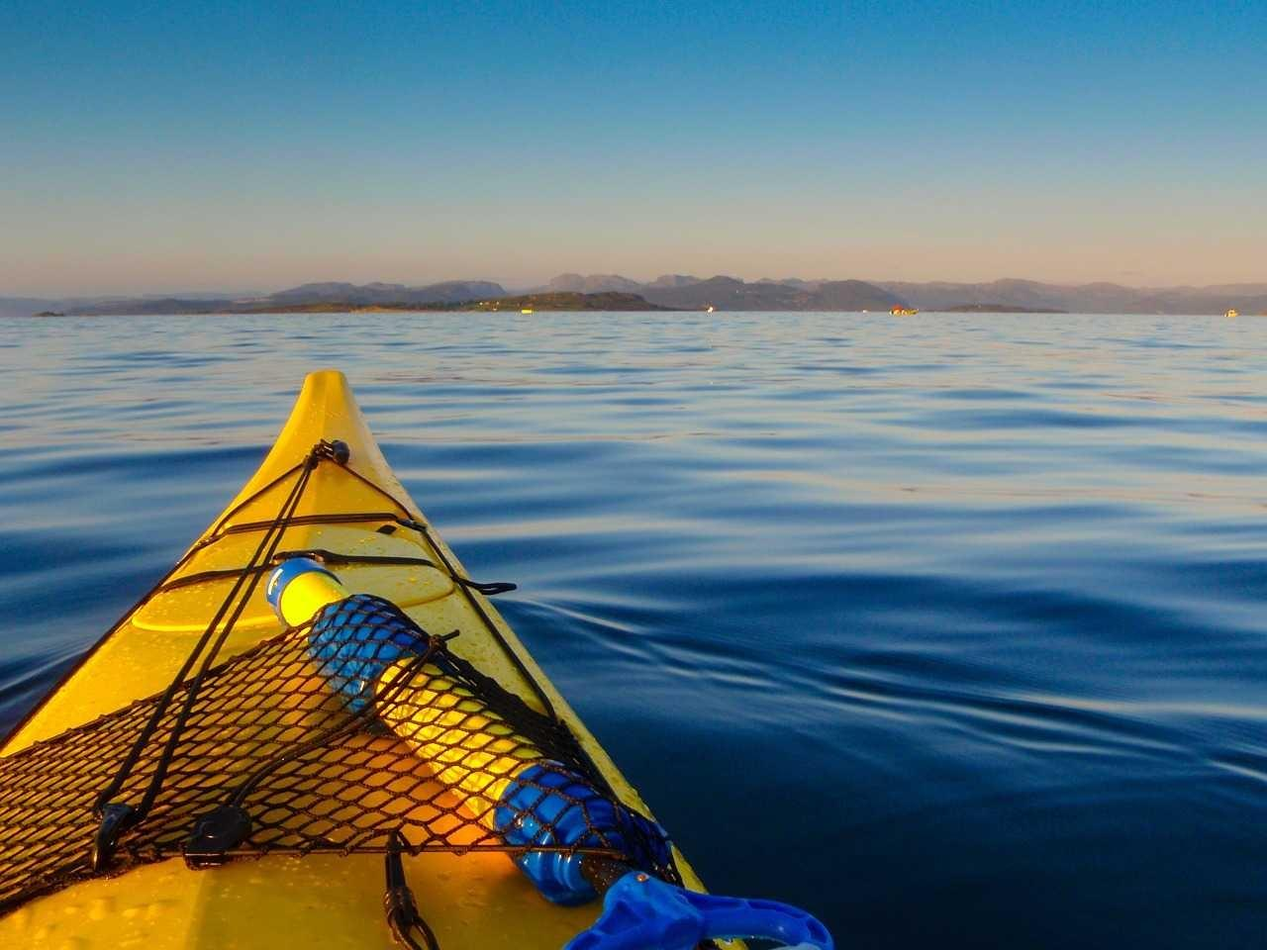kayak: (2, 370, 829, 947)
